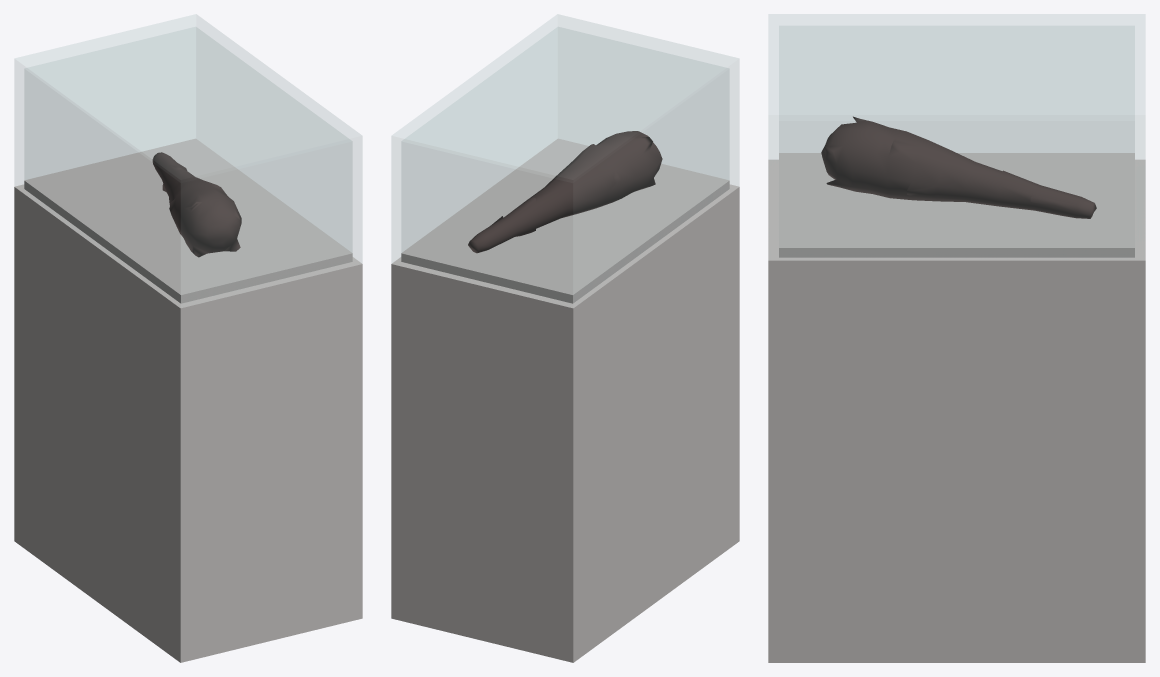
The model's file is KSR_ArtWorkCorrect.fbx.
3 renders of one model, left to right at view 1: azimuth 30°, elevation 25°; view 2: azimuth 150°, elevation 25°; view 3: azimuth 270°, elevation 25°, orthographic. The views are drawn at different scales.
Visible parts, largest first — view 1: Box, Glas, Club; view 2: Box, Glas, Club; view 3: Box, Glas, Club.
Boxes of the visible parts, x1,y1,x2,y2 form: Box: [14, 138, 362, 662]; Glas: [15, 14, 361, 306]; Club: [152, 152, 241, 257]; Box: [391, 138, 739, 662]; Glas: [392, 14, 738, 306]; Club: [468, 131, 662, 253]; Box: [768, 153, 1145, 662]; Glas: [769, 14, 1144, 259]; Club: [821, 116, 1096, 218].
Bounding box in the file's own units: 7.85 × 19.88 × 12.41.
